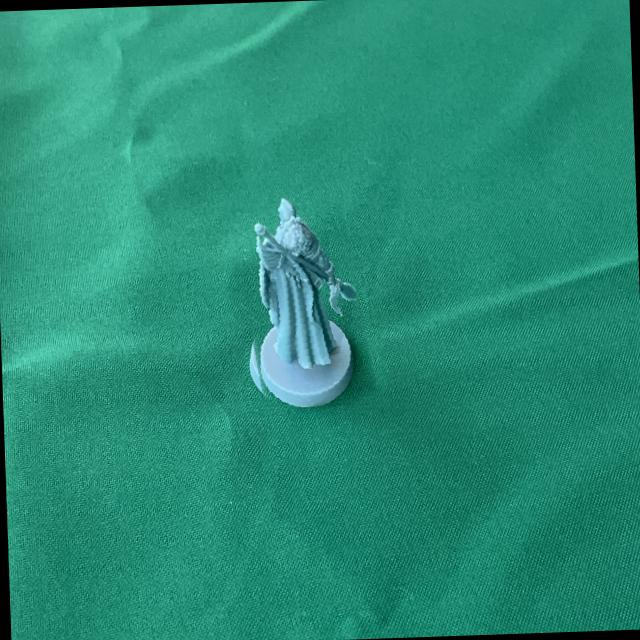isis_follower: (232, 182, 369, 412)
